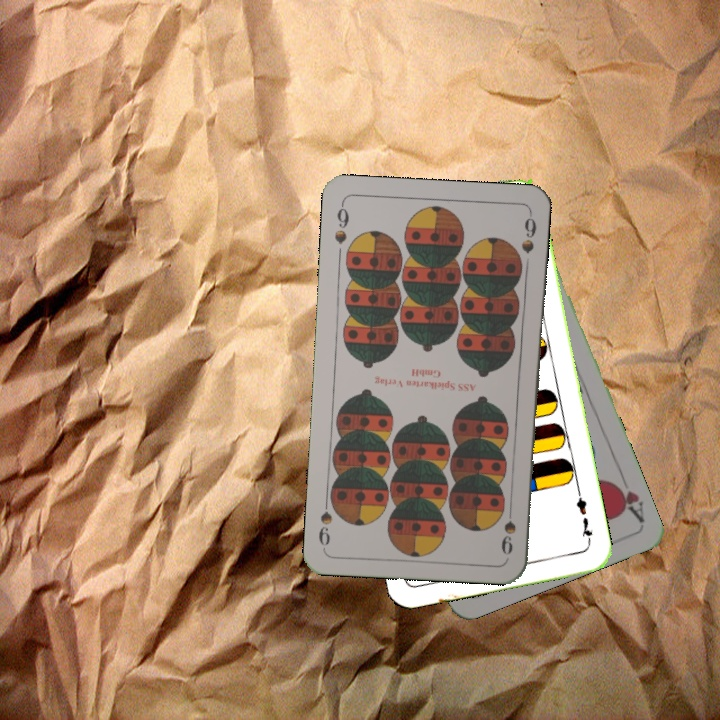E7: (572, 488, 595, 547)
HA: (608, 469, 647, 525)
S9: (497, 499, 519, 557), (331, 200, 352, 247)
